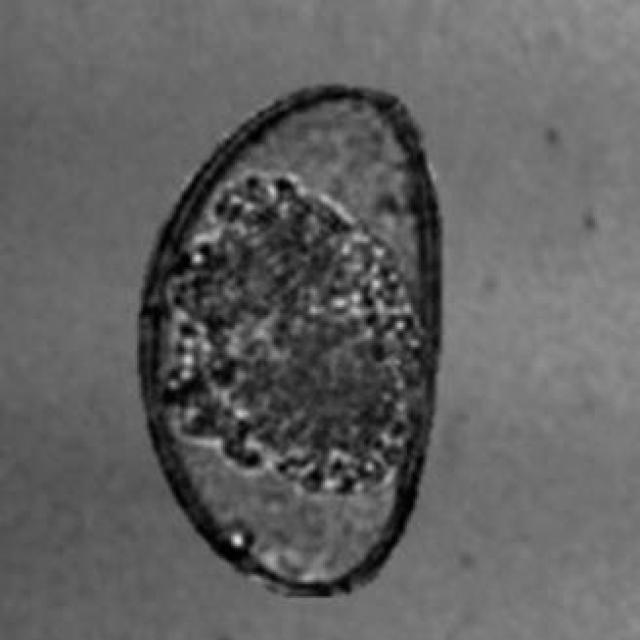Enterobius Vermicularis: (119, 71, 452, 605)
